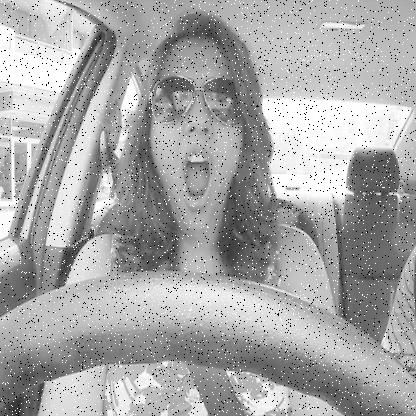seatbelt: (100, 2, 274, 416)
